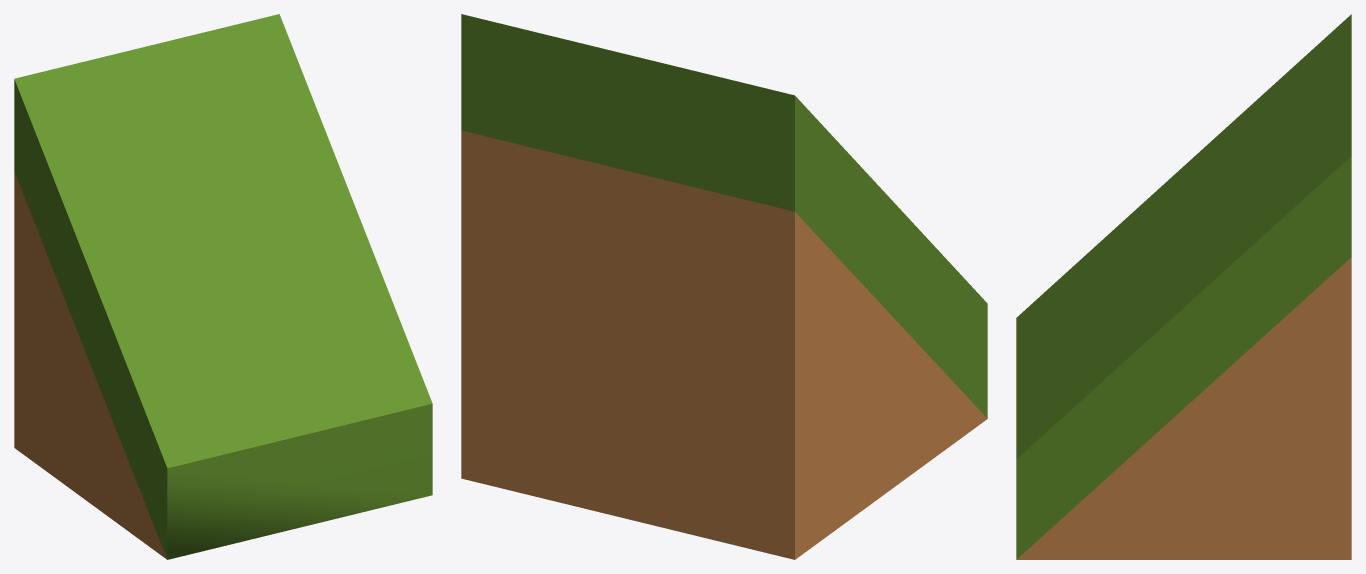
The model's file is TileMiring.fbx.
The picture shows the model from 3 angles, left to right: view 1: azimuth 30°, elevation 25°; view 2: azimuth 150°, elevation 25°; view 3: azimuth 270°, elevation 25°; orthographic projection. The views are drawn at different scales.
Visible parts, largest first — view 1: Tile_Center.002; view 2: Tile_Center.002; view 3: Tile_Center.002.
Boxes of the visible parts, left/top/right/bottom form: Tile_Center.002: left=14, top=14, right=432, bottom=559; Tile_Center.002: left=461, top=14, right=987, bottom=559; Tile_Center.002: left=1016, top=14, right=1351, bottom=559.
Size of the model in its own units: 200 by 266 by 200.
